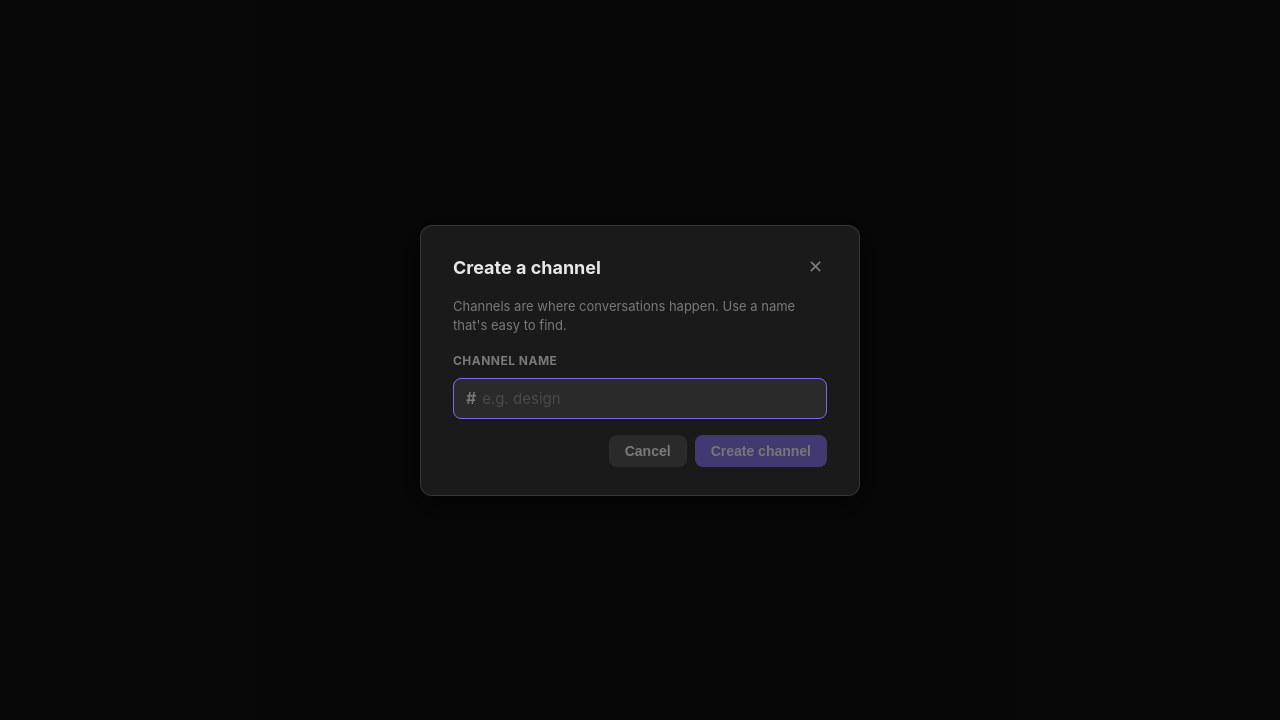
it: CreateChannelModal — input validation › shows normalization hint when input differs from normalized form
The image size is (1280, 720).
Type "Design Stuff!" into the field at [648, 398], box [482,378,814,418]
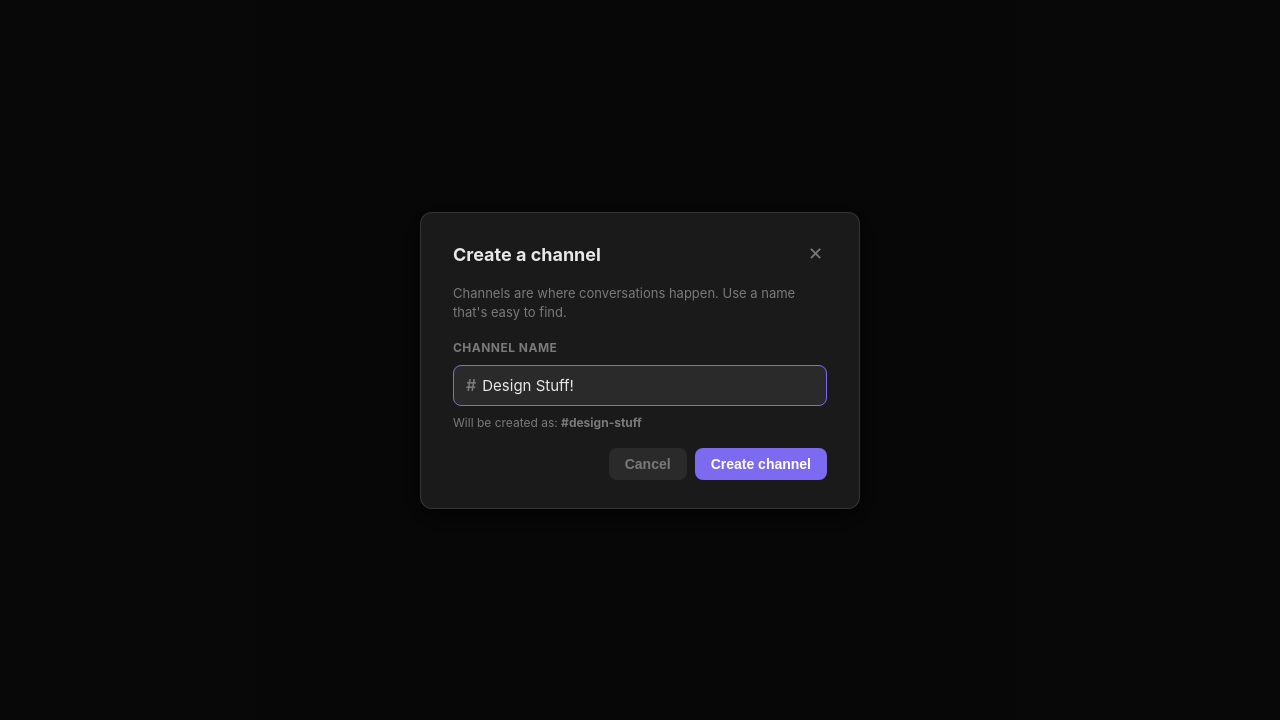
Result: the text "Will be created as: #design-stuff" is shown at [453,414,642,430]
Result: the text "#design-stuff" is shown at [561,414,642,430]
